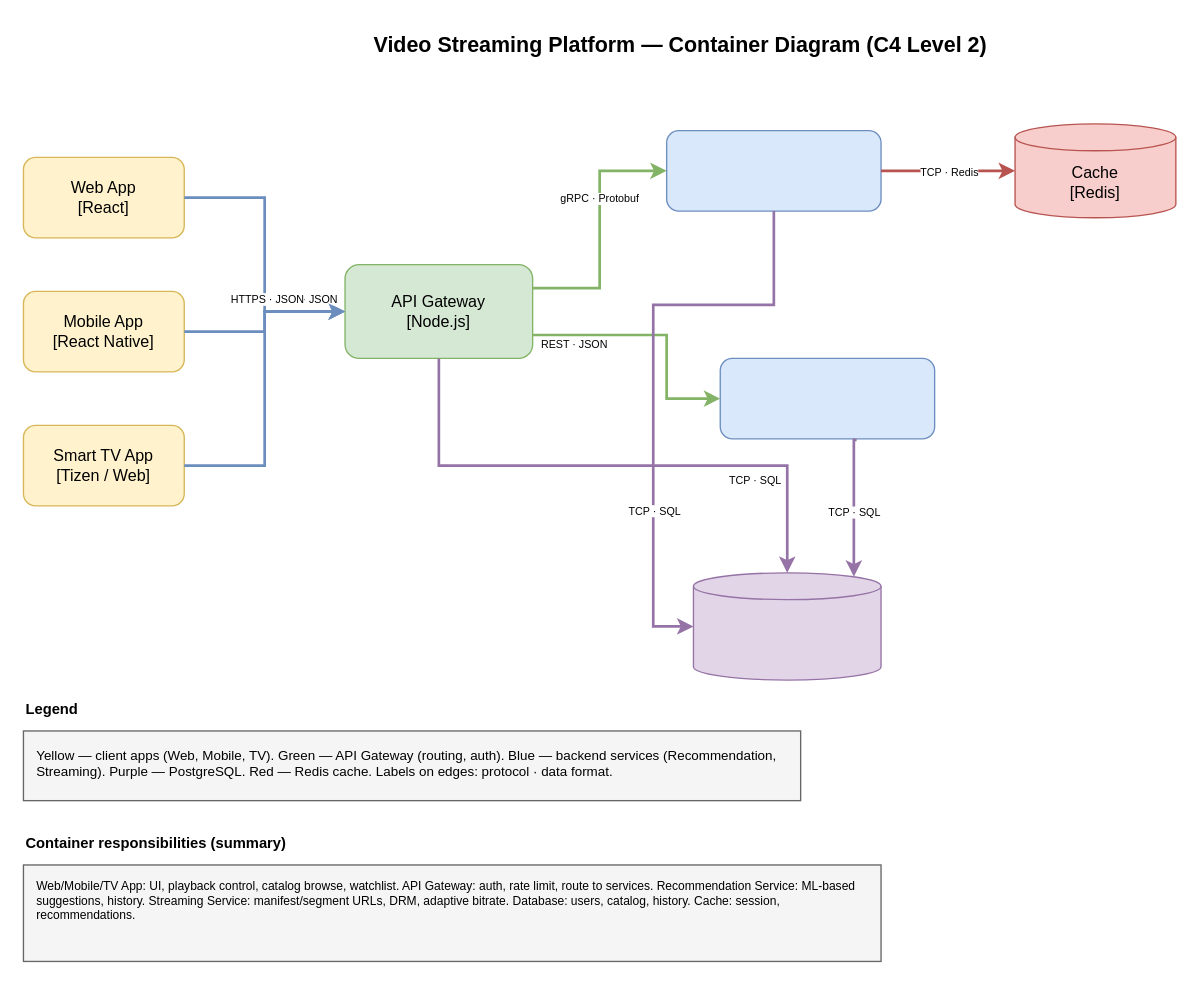
This 1199x985 diagram has some shape labels left out. The centre of each missing label's shape, as x and y in pixels:
Database [PostgreSQL]: point (786, 626)
Recommendation Service [Python]: point (773, 170)
Streaming Service [Go]: point (827, 398)
